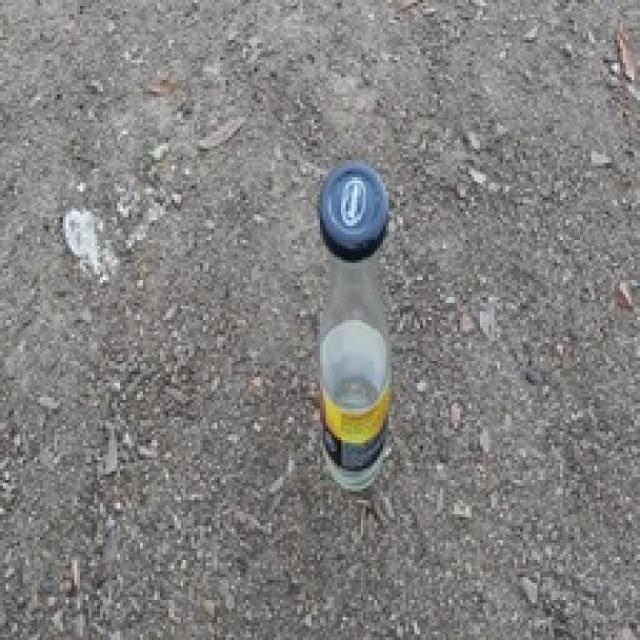Glass: (322, 245, 388, 496)
